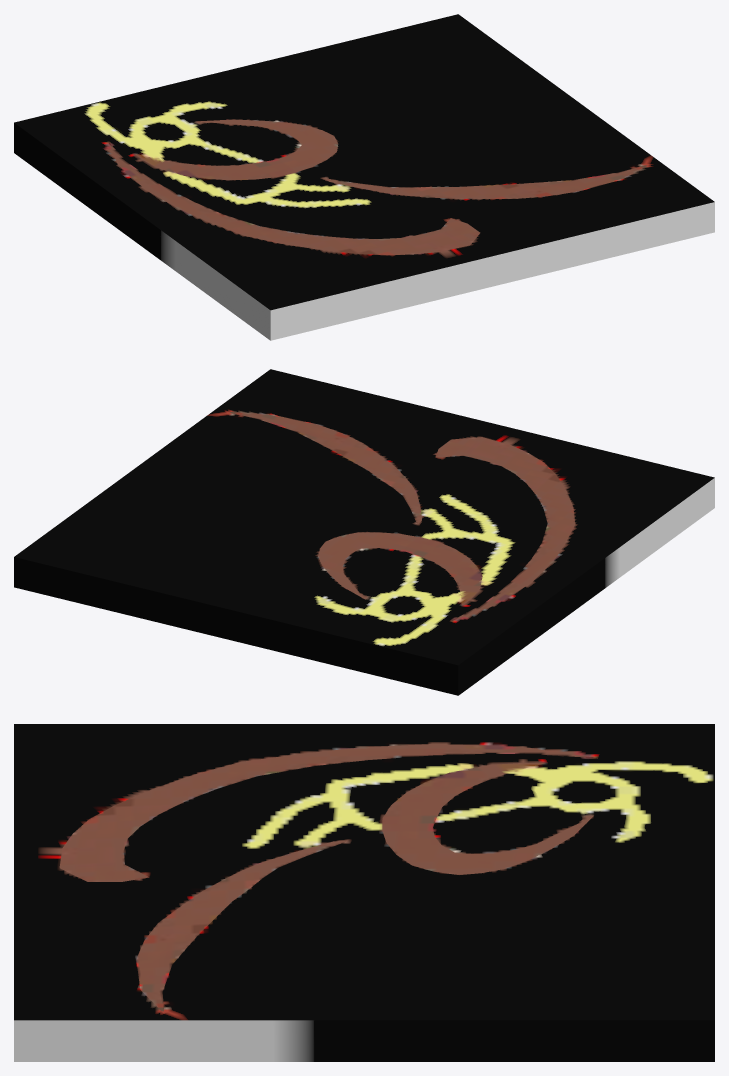
File: CharSkyKid_Prop_MoonlightMural_Fly01.glb
3 renders of one model, top to bottom at view 1: azimuth 30°, elevation 25°; view 2: azimuth 150°, elevation 25°; view 3: azimuth 270°, elevation 25°, orthographic. The views are drawn at different scales.
Parts seen in each view (by area): view 1: CharSkyKid_Prop_MoonlightMural_Fly01; view 2: CharSkyKid_Prop_MoonlightMural_Fly01; view 3: CharSkyKid_Prop_MoonlightMural_Fly01.
Part boxes in pixels (<box>): CharSkyKid_Prop_MoonlightMural_Fly01: <box>14,14,714,340</box>; CharSkyKid_Prop_MoonlightMural_Fly01: <box>14,369,714,695</box>; CharSkyKid_Prop_MoonlightMural_Fly01: <box>14,724,714,1061</box>.
Size of the model in its own units: 1 by 0.0654 by 1.
1 material, 1 textured.
